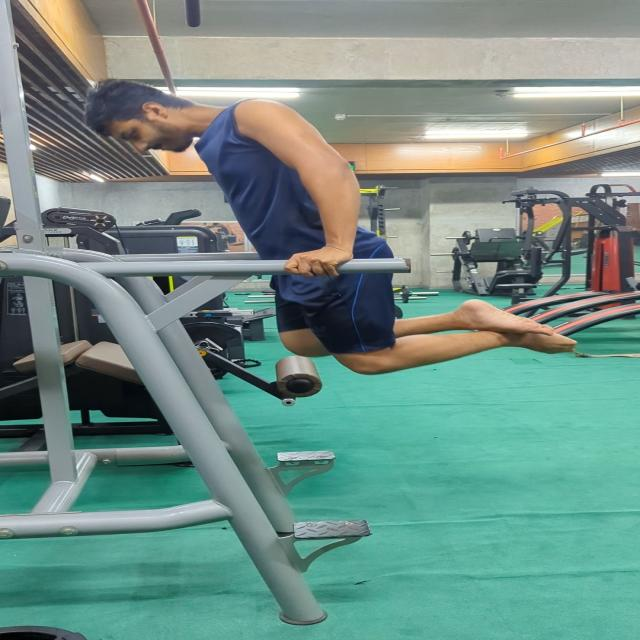Normal_Dips: (74, 77, 584, 383)
